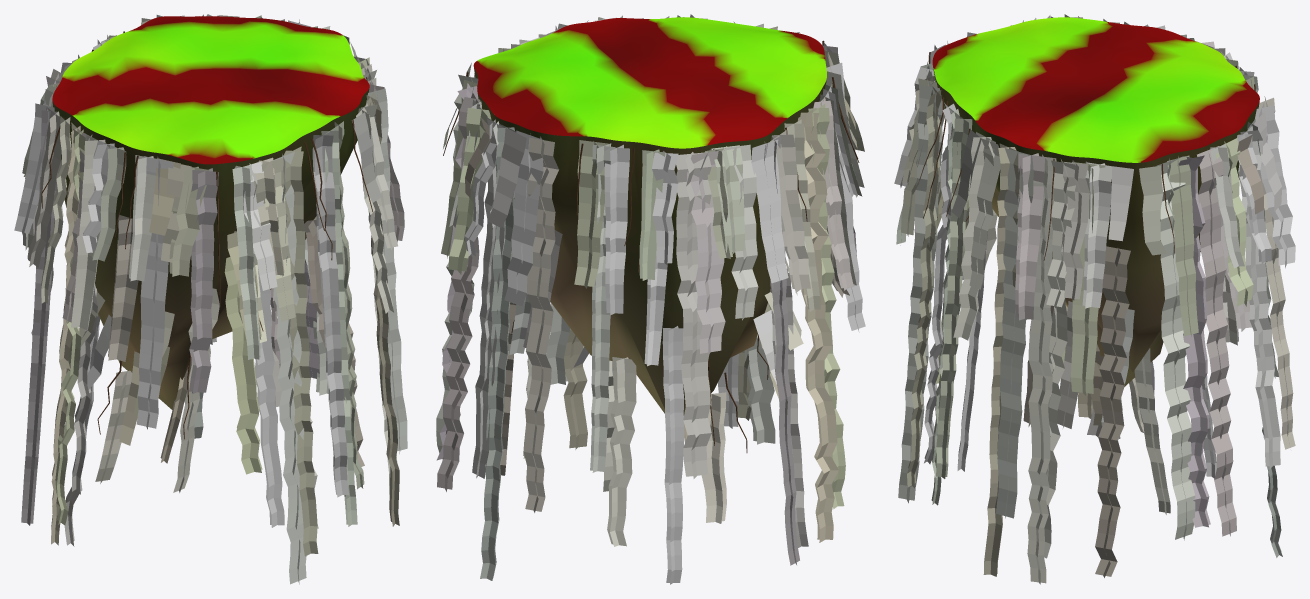
Rendered from SM_H10_Floater03.fbx.
3 renders of one model, left to right at view 1: azimuth 30°, elevation 25°; view 2: azimuth 150°, elevation 25°; view 3: azimuth 270°, elevation 25°, orthographic. The views are drawn at different scales.
Visible parts, largest first — view 1: SM_H10_Floater03_Ivy, SM_H10_Floater03; view 2: SM_H10_Floater03_Ivy, SM_H10_Floater03; view 3: SM_H10_Floater03_Ivy, SM_H10_Floater03.
Boxes of the visible parts, x1=… form: SM_H10_Floater03_Ivy: x1=14, y1=14, x2=407, y2=584; SM_H10_Floater03: x1=52, y1=16, x2=369, y2=409; SM_H10_Floater03_Ivy: x1=436, y1=14, x2=865, y2=584; SM_H10_Floater03: x1=473, y1=17, x2=826, y2=415; SM_H10_Floater03_Ivy: x1=894, y1=14, x2=1295, y2=584; SM_H10_Floater03: x1=932, y1=17, x2=1259, y2=386.
Size of the model in its own units: 25 by 30.92 by 25.24.
